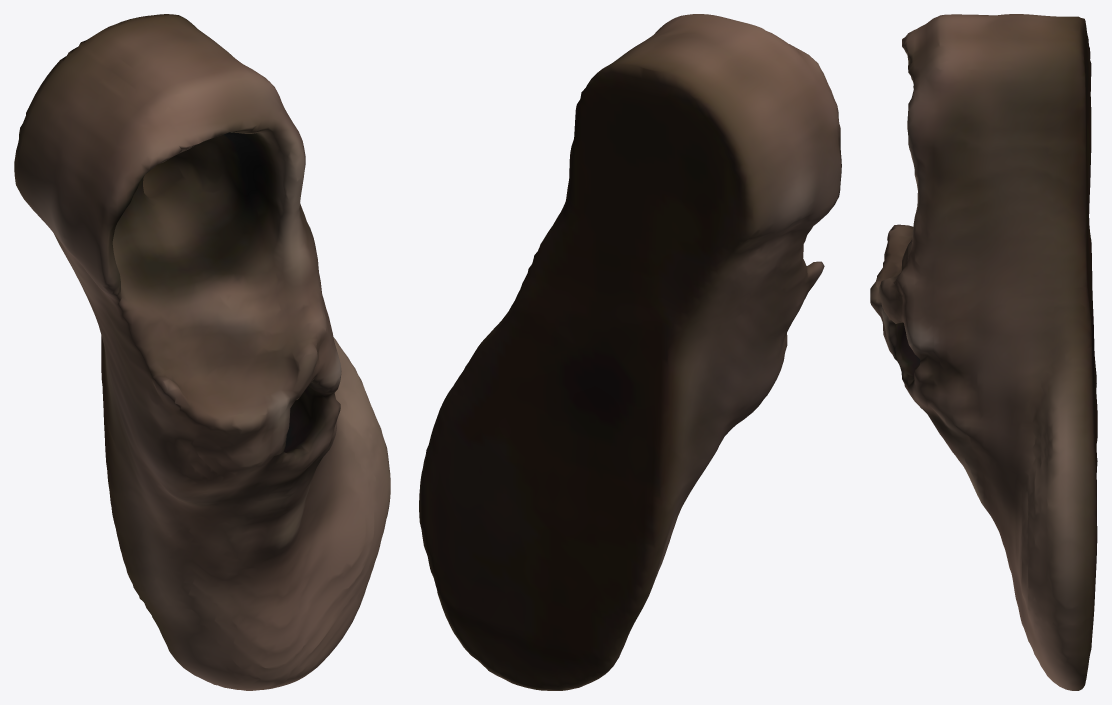
Rendered from shoe3.glb.
The picture shows the model from 3 angles, left to right: view 1: azimuth 30°, elevation 25°; view 2: azimuth 150°, elevation 25°; view 3: azimuth 270°, elevation 25°; orthographic projection. The views are drawn at different scales.
Size of the model in its own units: 0.5545 by 0.9998 by 0.3433.
